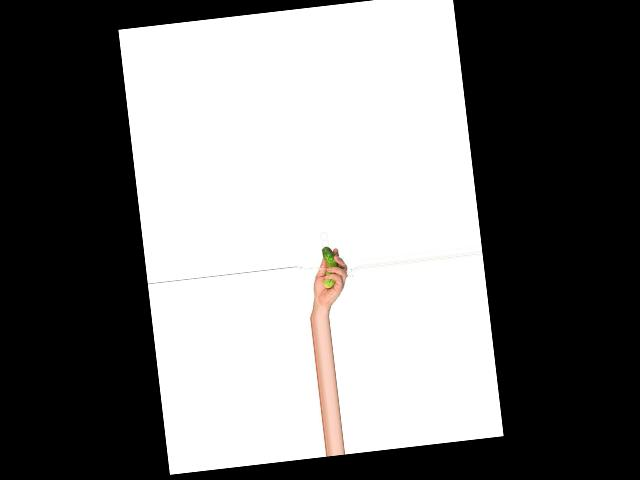cucumber: (320, 245, 340, 288)
